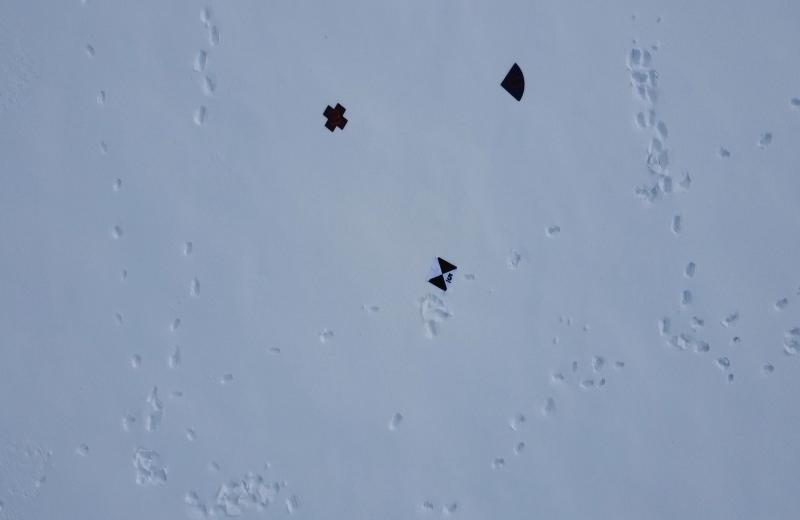Cross: (319, 101, 349, 133)
Quarter Circle: (496, 59, 527, 106)
